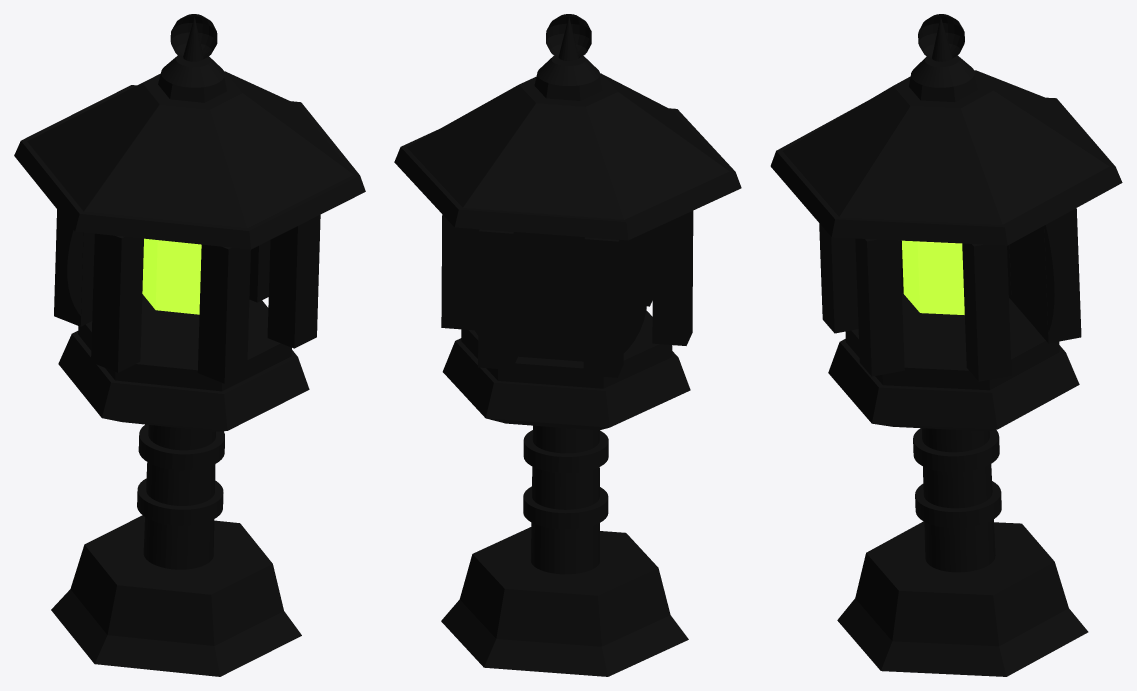
3 views of the same model, side by side, from view 1: azimuth 30°, elevation 25°; view 2: azimuth 150°, elevation 25°; view 3: azimuth 270°, elevation 25° (orthographic).
Visible parts, largest first — view 1: touro_stone, touro_core, touro_back; view 2: touro_stone, touro_back; view 3: touro_stone, touro_core, touro_back.
Part boxes in pixels (x1,y1,x2,y2): touro_stone: (14, 14, 365, 676); touro_core: (142, 238, 201, 314); touro_back: (67, 230, 142, 315); touro_stone: (394, 14, 741, 676); touro_back: (461, 232, 647, 361); touro_stone: (770, 14, 1122, 676); touro_core: (902, 240, 964, 314); touro_back: (1009, 225, 1054, 331).
Bounding box in the file's own units: 1.05 × 2.13 × 1.1.
